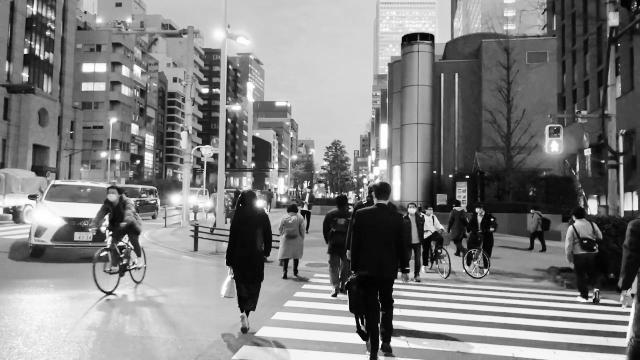berjalan: (352, 176, 408, 360), (222, 185, 272, 333), (564, 203, 608, 309), (322, 191, 358, 299), (620, 212, 640, 360), (278, 204, 308, 284)
